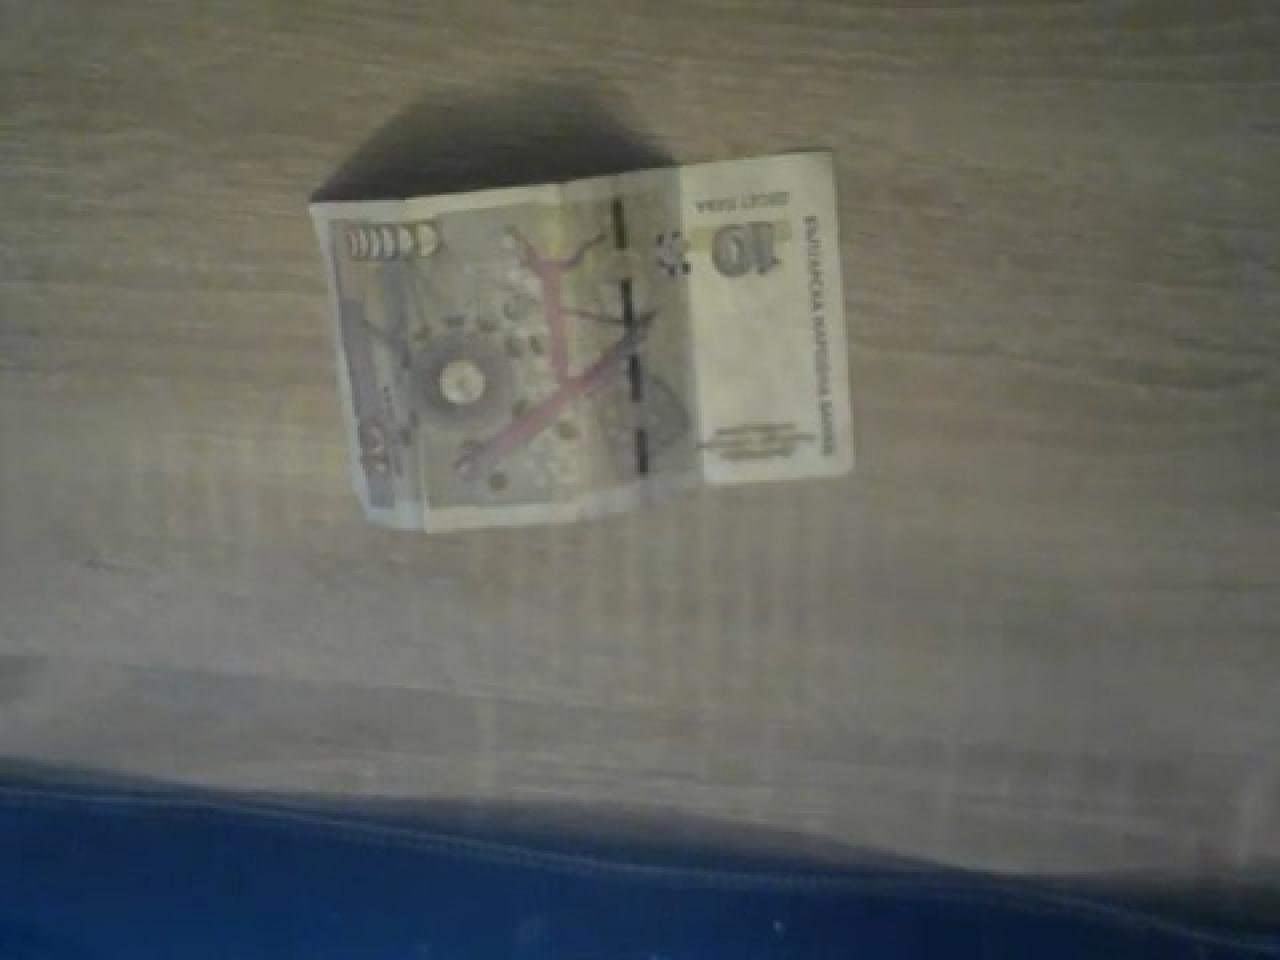10leva: (309, 146, 859, 530), (309, 146, 856, 530)
